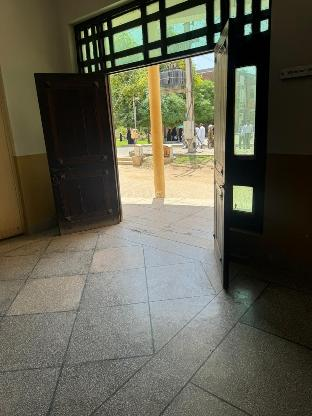door: (101, 61, 225, 253), (30, 68, 122, 235)
